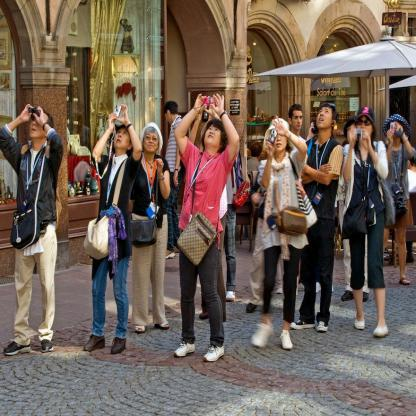person: (170, 114, 239, 361), (8, 107, 63, 354), (249, 116, 306, 348), (294, 100, 344, 333), (88, 121, 136, 352), (124, 120, 172, 333), (347, 102, 386, 337), (377, 115, 415, 288)
